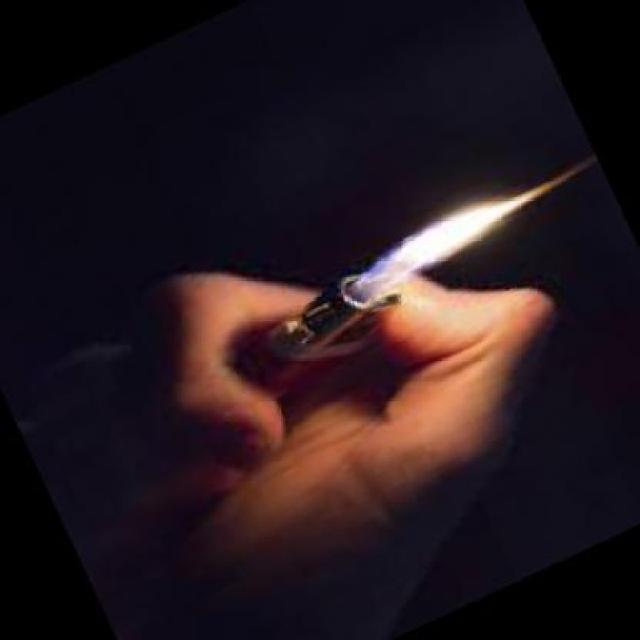Fire: (343, 145, 581, 306)
